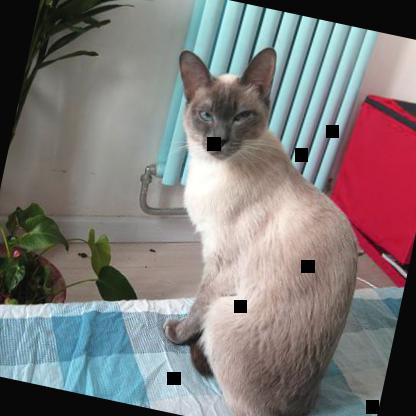cat: (105, 27, 401, 415)
